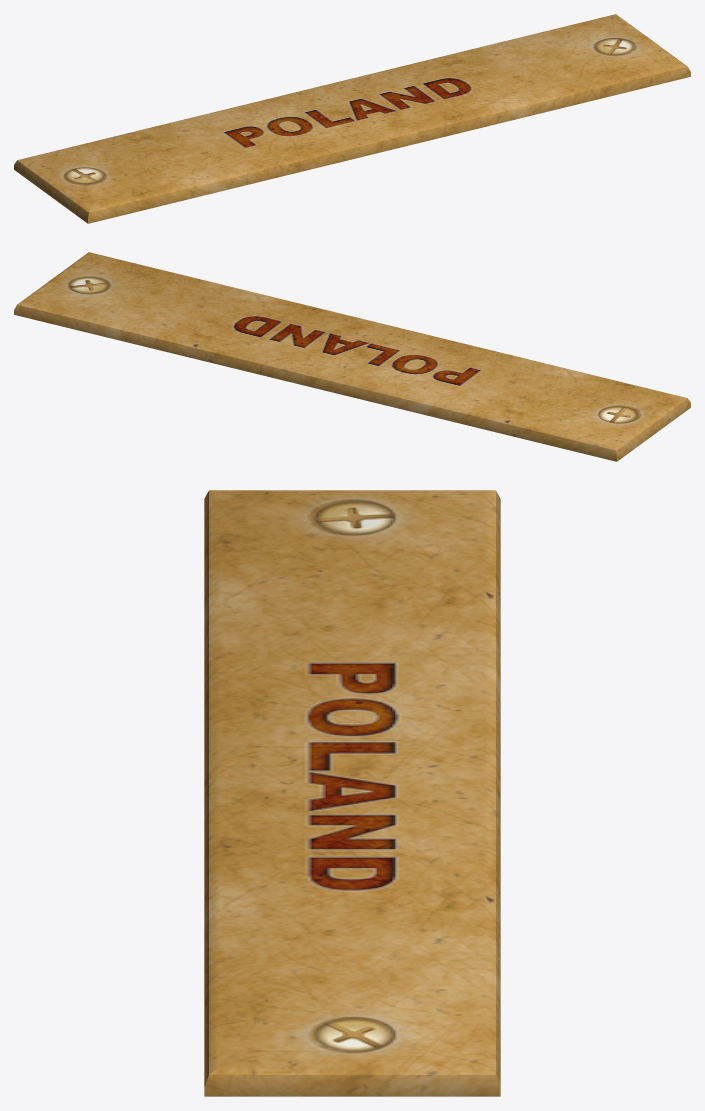
The model's file is mdl_hub_plaque_poland.gltf.
3 views of the same model, one above another, from view 1: azimuth 30°, elevation 25°; view 2: azimuth 150°, elevation 25°; view 3: azimuth 270°, elevation 25° (orthographic). The views are drawn at different scales.
Parts seen in each view (by area): view 1: mdl_hub_plaque_poland; view 2: mdl_hub_plaque_poland; view 3: mdl_hub_plaque_poland.
Part boxes in pixels (box(x1,y1,x2,y2)): mdl_hub_plaque_poland: box(14, 14, 690, 223); mdl_hub_plaque_poland: box(14, 252, 690, 461); mdl_hub_plaque_poland: box(204, 490, 500, 1096).
Bounding box in the file's own units: 0.3 × 0.00568 × 0.0638.
1 material, 1 textured.
